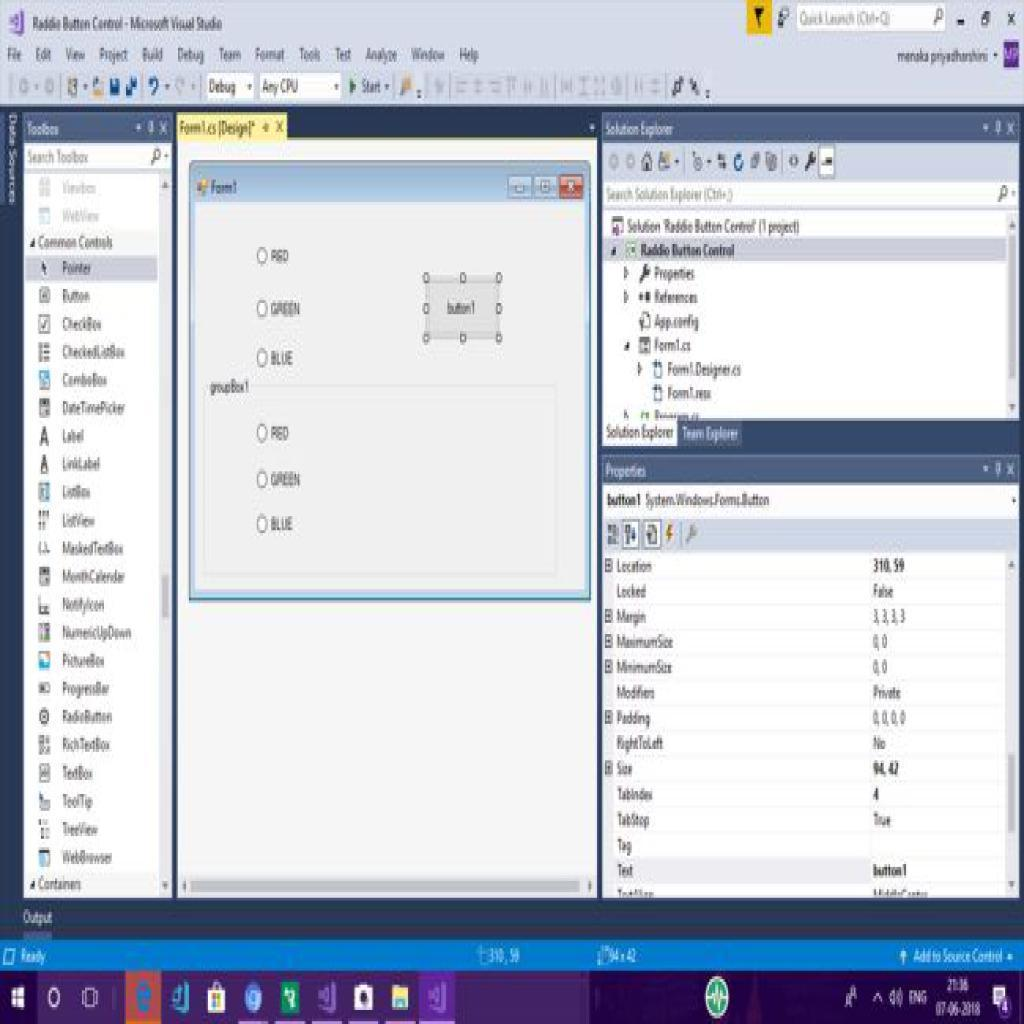dropdown: (261, 73, 343, 102), (209, 73, 256, 101)
input: (605, 181, 1020, 208), (796, 5, 947, 31)
label: (270, 300, 304, 319), (271, 470, 303, 489), (270, 349, 297, 368), (270, 516, 297, 533), (270, 248, 292, 266), (272, 425, 292, 443)
radio: (257, 514, 270, 538), (256, 469, 270, 490), (257, 348, 270, 370), (257, 245, 268, 268), (257, 301, 270, 319), (258, 424, 269, 445)
